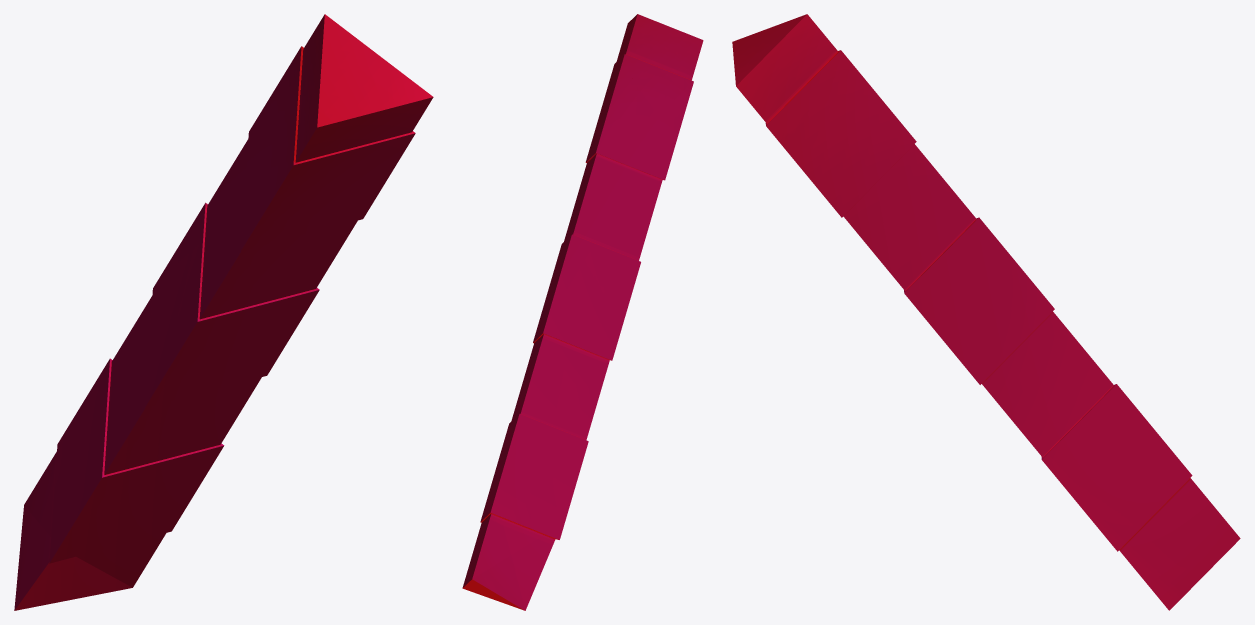
File: Roof Tiles 3.fbx
3 renders of one model, left to right at view 1: azimuth 30°, elevation 25°; view 2: azimuth 150°, elevation 25°; view 3: azimuth 270°, elevation 25°, orthographic. The views are drawn at different scales.
Visible parts, largest first — view 1: Roof Tiles 3; view 2: Roof Tiles 3; view 3: Roof Tiles 3.
Part boxes in pixels (bbox=[...]): Roof Tiles 3: bbox=[14, 14, 433, 610]; Roof Tiles 3: bbox=[462, 14, 703, 610]; Roof Tiles 3: bbox=[732, 14, 1240, 610].
Bounding box in the file's own units: 55.48 × 289 × 229.
1 material, 1 textured.
